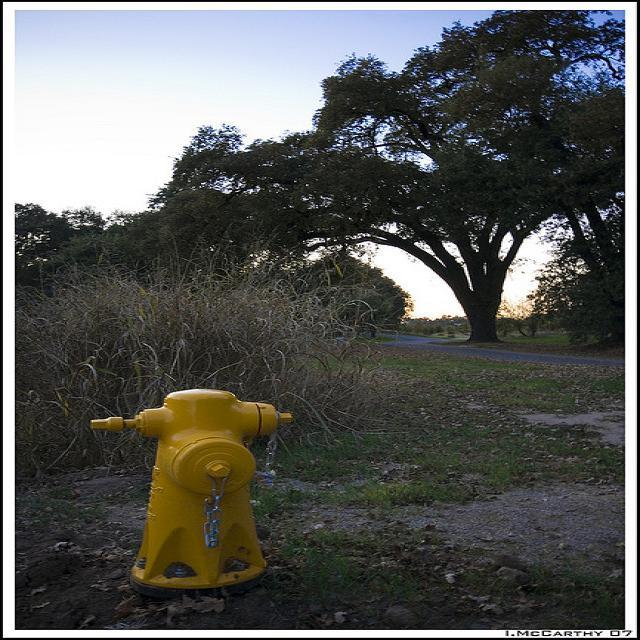fire_hydrant: (82, 387, 292, 591)
